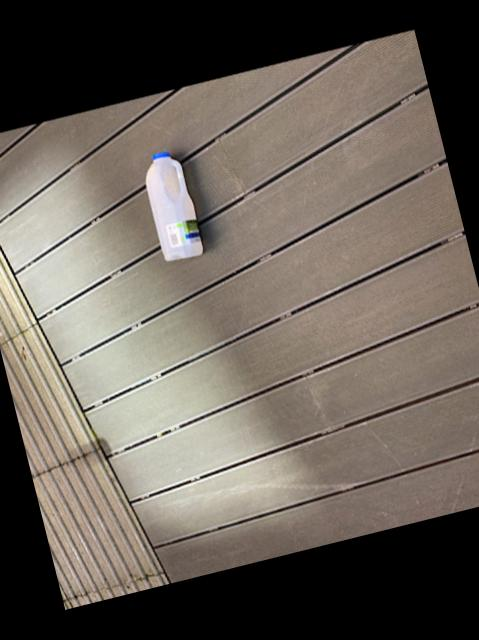plastic: (142, 152, 199, 260)
